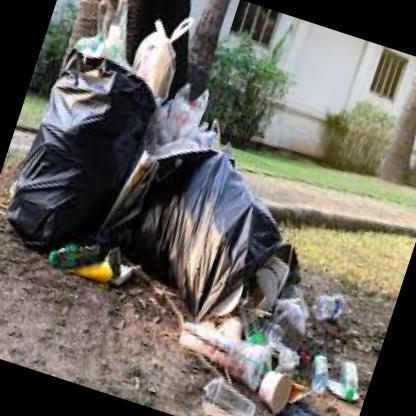Garbage: (0, 34, 174, 254), (116, 124, 288, 336), (163, 262, 322, 415), (278, 276, 396, 415), (60, 0, 198, 114), (139, 79, 220, 180), (49, 232, 142, 304), (243, 331, 318, 415)
